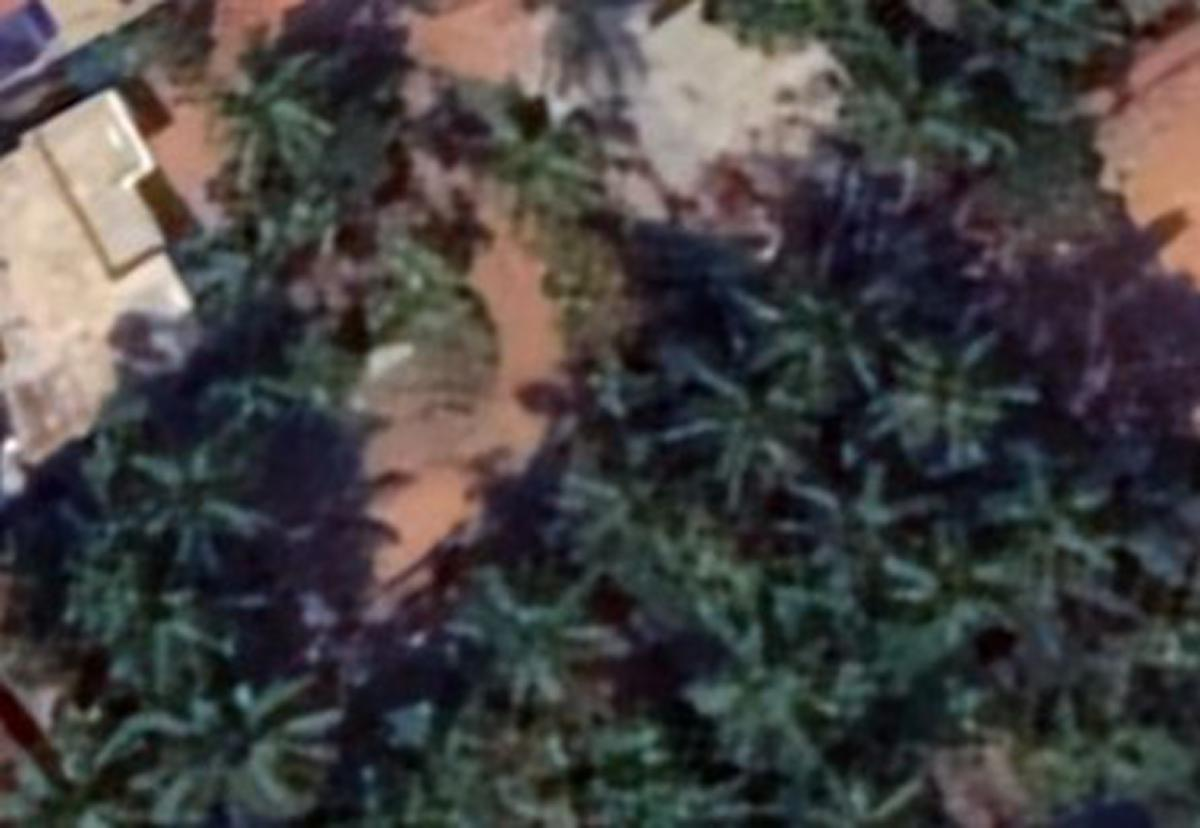coconut: (143, 652, 350, 821), (677, 614, 859, 757), (652, 350, 805, 496), (455, 557, 604, 703), (872, 324, 1037, 455), (120, 445, 283, 576), (853, 28, 1005, 168), (541, 426, 687, 570), (792, 449, 935, 595), (967, 433, 1114, 566), (744, 270, 891, 401), (200, 54, 350, 159)
